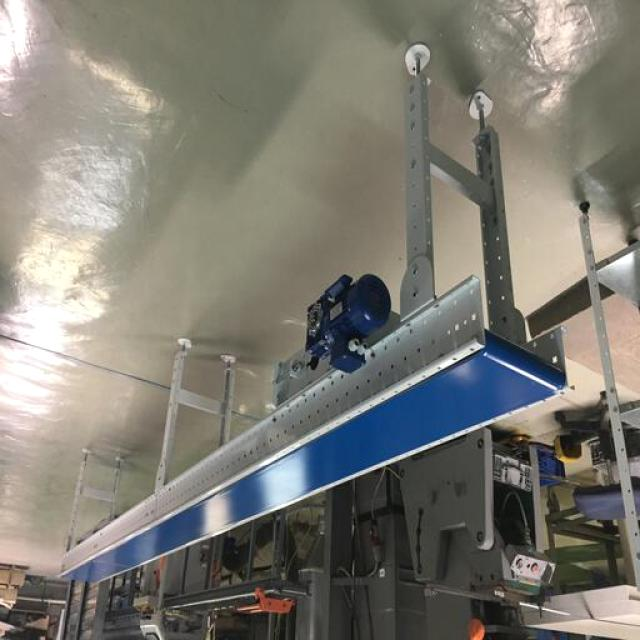conveyor: (56, 345, 565, 581)
